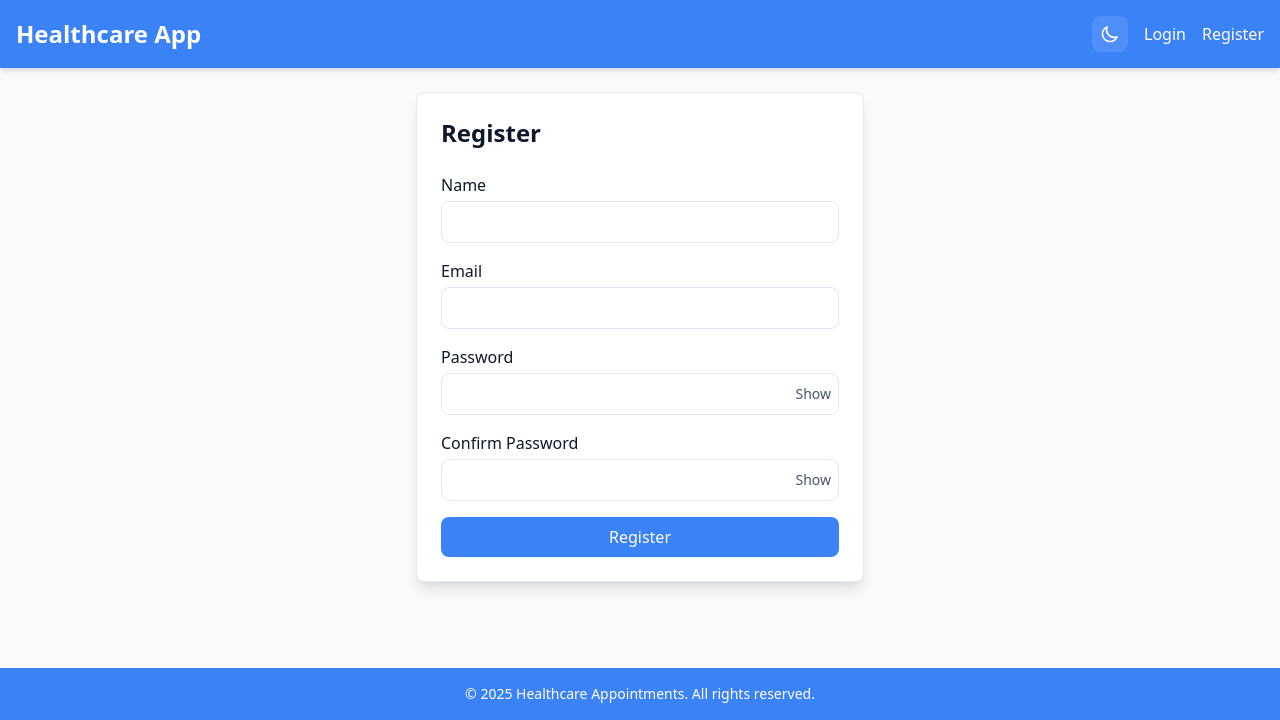
Test: Register Page › shows validation error if passwords do not match
The width and height of the screenshot is (1280, 720).
Step 1. Type "Test User" into the field labelled "Name" → (640, 222), box 441,201 -> 839,243
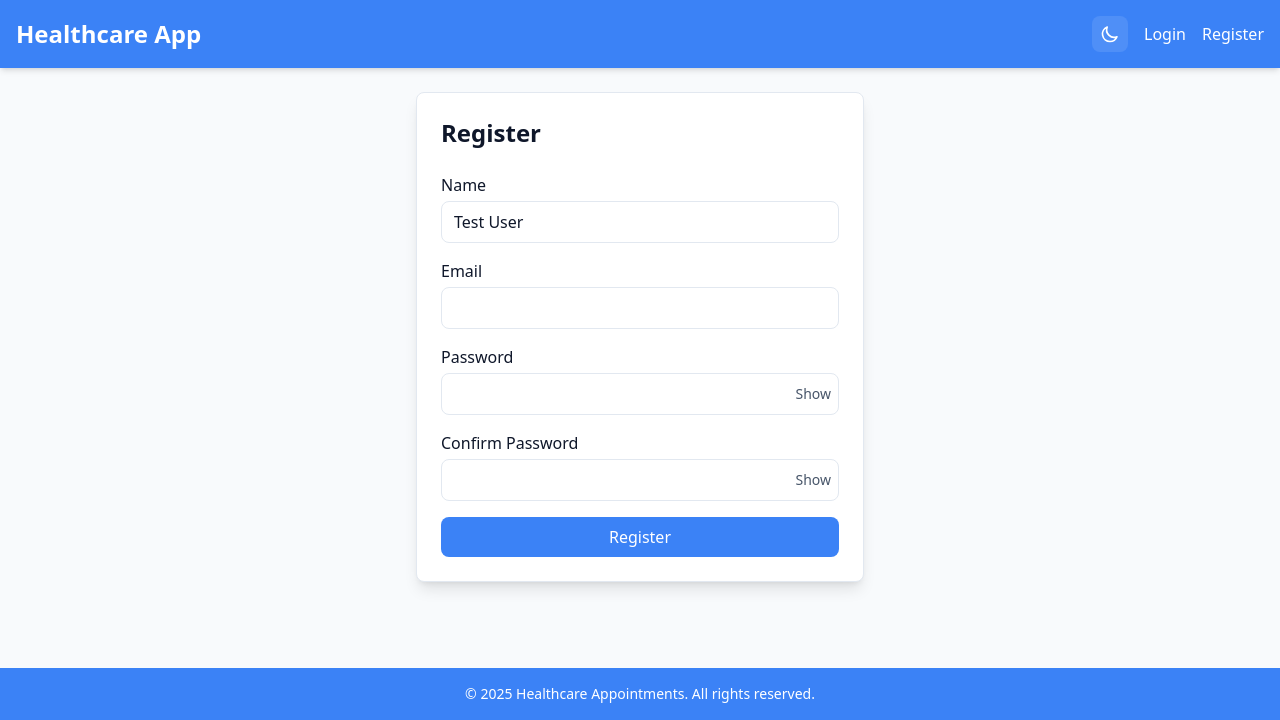
Step 2. Type "test@example.com" into the field labelled "Email" → (640, 308), box 441,287 -> 839,329
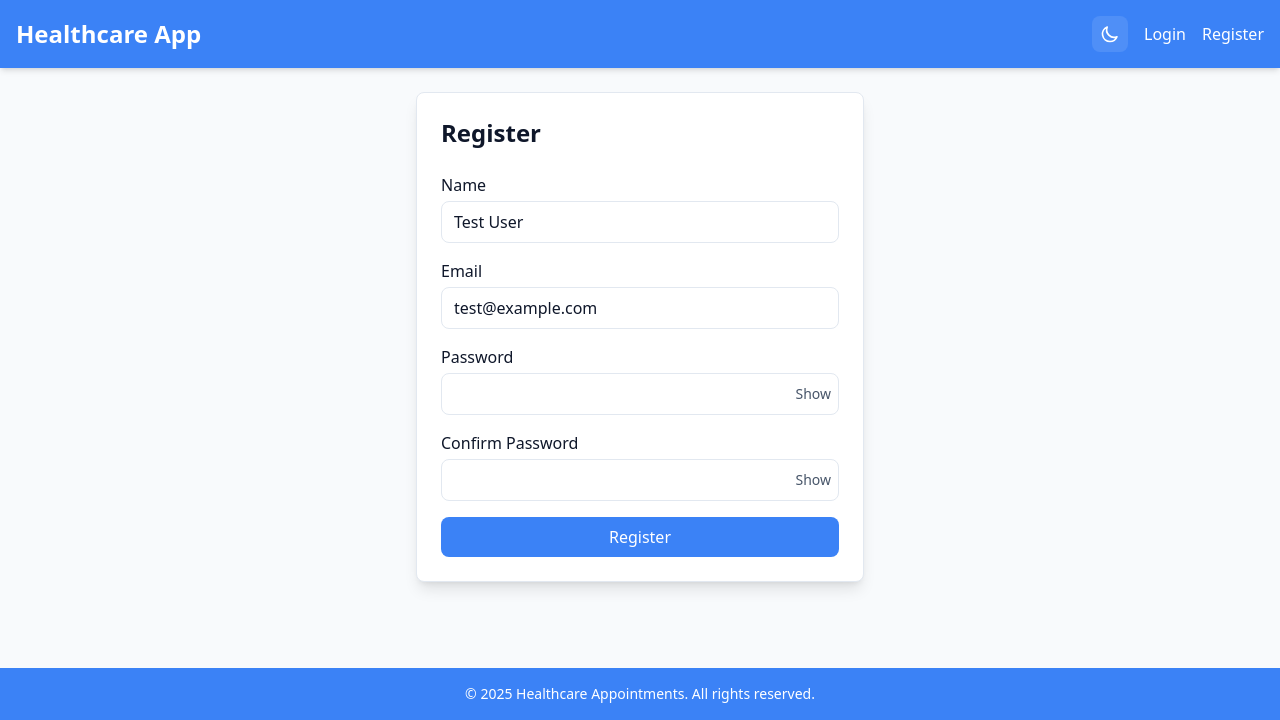
Step 3. Type "password123" into the password field labelled "Password" → (640, 394), box 441,373 -> 839,415
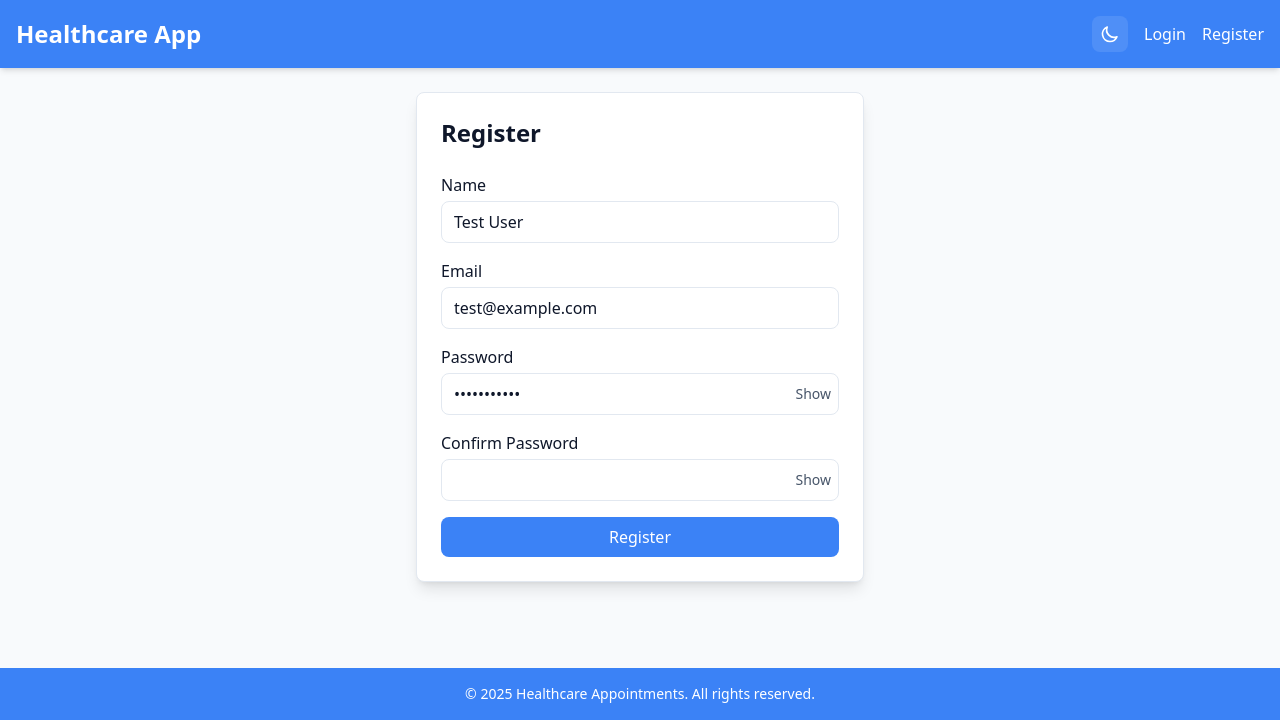
Step 4. Type "password124" into the password field labelled "Confirm Password" → (640, 480), box 441,459 -> 839,501
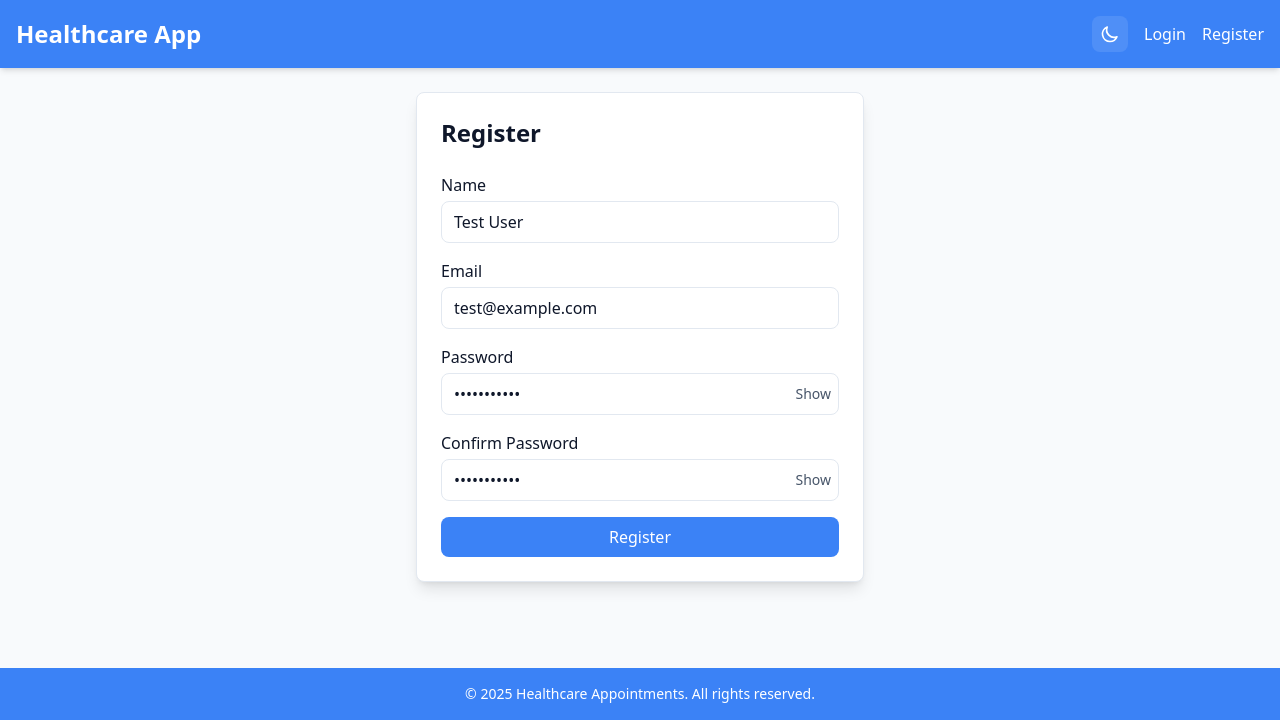
Step 5. Click the button "Register" → (640, 537), box 441,517 -> 839,557
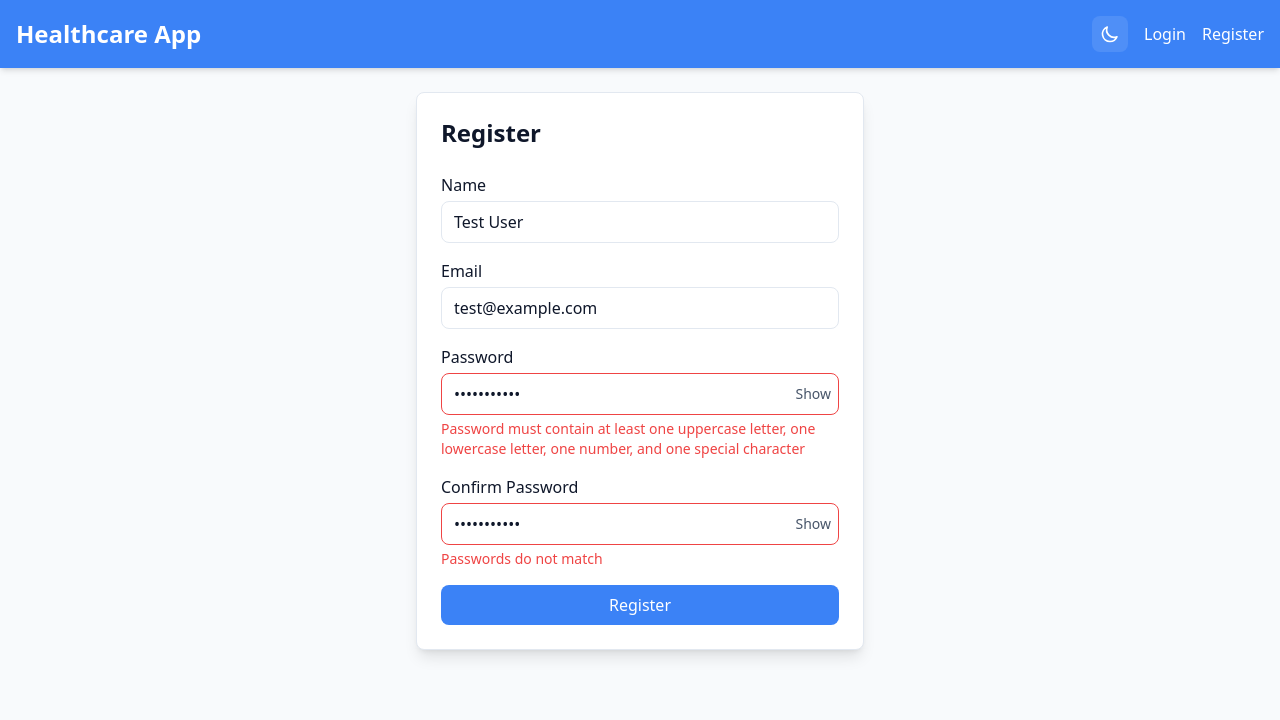
Now the text "Passwords do not match" is shown, box 441,549 -> 603,568
